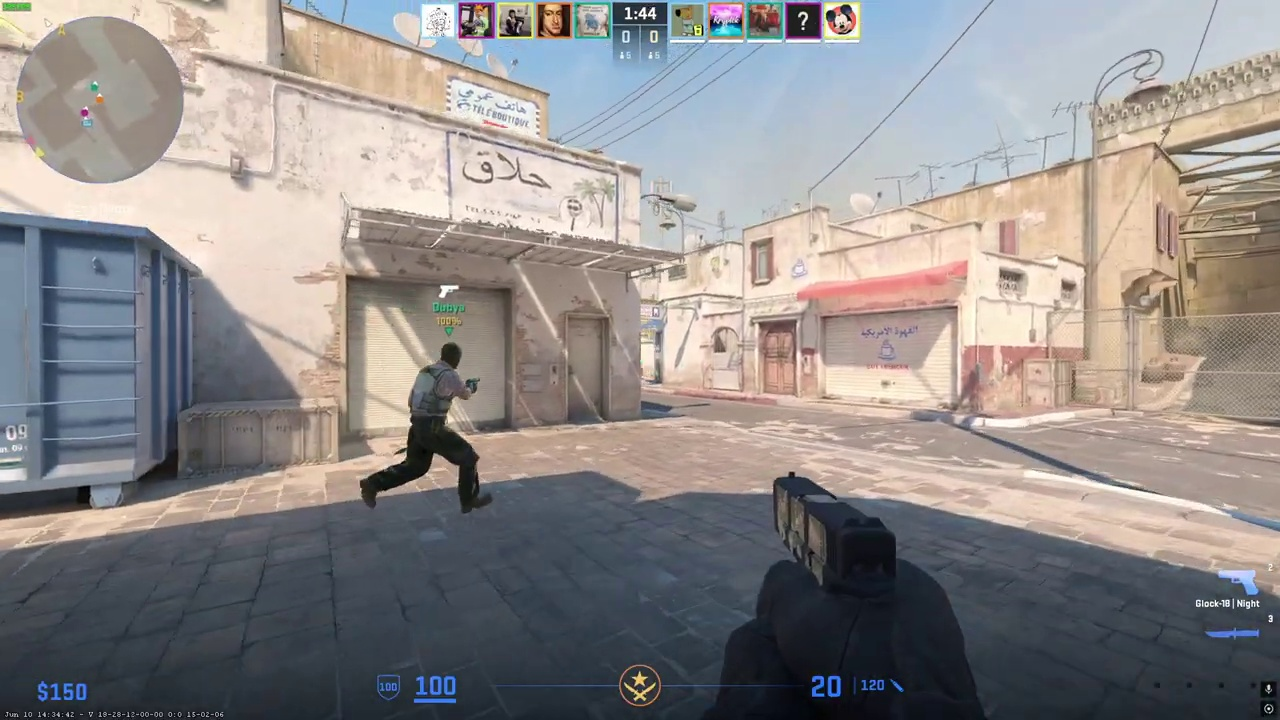Terrorist: (367, 342, 486, 514)
